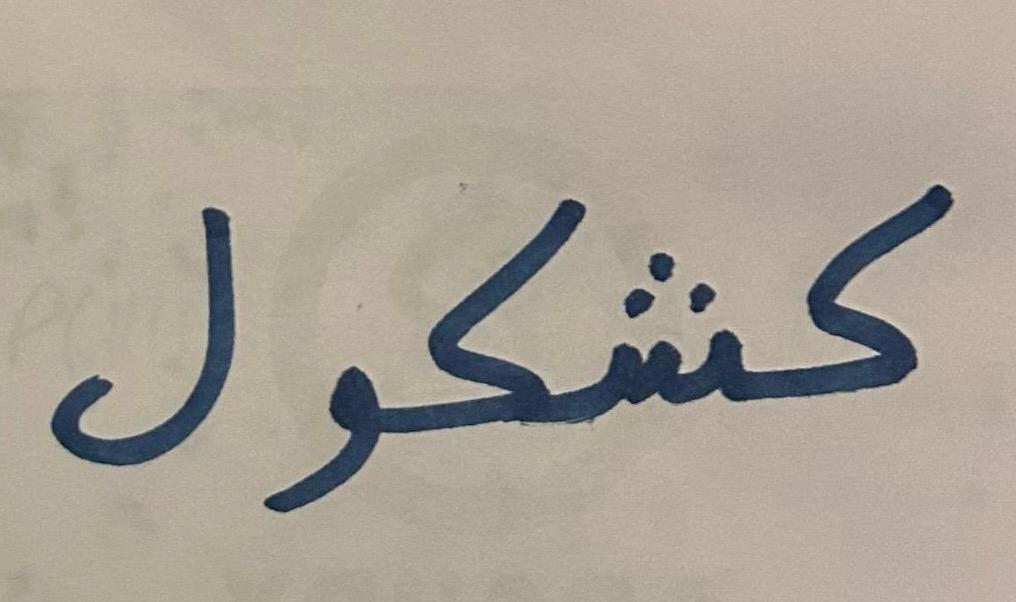khah: (784, 128, 988, 450), (389, 161, 597, 467)
meem: (27, 127, 242, 528)
tah: (600, 220, 781, 475)
yeh: (247, 307, 387, 541)
